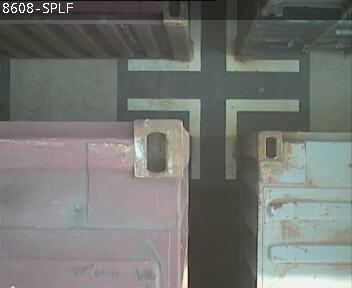groundmarker_1: (128, 98, 299, 178), (127, 1, 299, 71)
